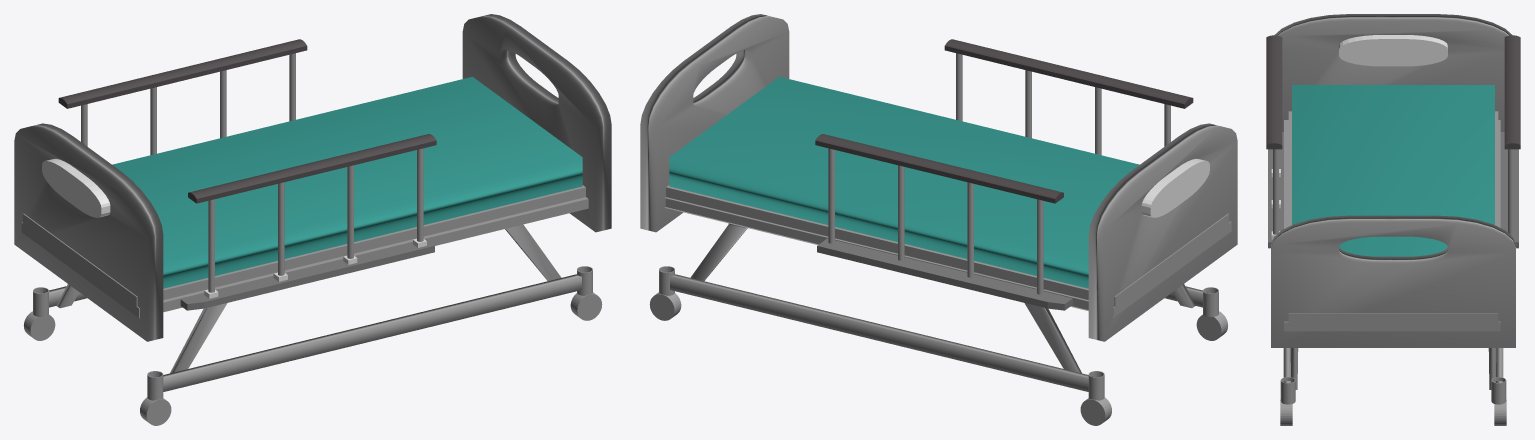
Rendered from Hospital Bed Finalized2.fbx.
The picture shows the model from 3 angles, left to right: view 1: azimuth 30°, elevation 25°; view 2: azimuth 150°, elevation 25°; view 3: azimuth 270°, elevation 25°; orthographic projection. The views are drawn at different scales.
Parts seen in each view (by area): view 1: Cube, Cube.002, Cube.001, Cube.006, Plane, Cylinder, Cube.004, Plane.001, Cube.003, Circle, Cylinder.001; view 2: Cube, Cube.002, Cube.001, Cube.006, Plane, Cylinder, Cube.004, Plane.001, Cube.003, Circle, Cylinder.001; view 3: Cube.002, Cube, Cube.001, Plane, Cube.003, Cube.004, Cylinder, Cylinder.001, Circle, Plane.001, Cube.006.
Boxes of the visible parts, x1,y1,x2,y2 form: Cube: (112, 76, 582, 288); Cube.002: (14, 14, 611, 341); Cube.001: (21, 185, 588, 318); Cube.006: (43, 274, 581, 391); Plane: (58, 39, 436, 203); Cylinder: (81, 53, 423, 292); Cube.004: (180, 239, 434, 310); Plane.001: (56, 224, 561, 373); Cube.003: (42, 158, 110, 217); Circle: (23, 292, 602, 425); Cylinder.001: (33, 266, 592, 400); Cube: (669, 76, 1139, 288); Cube.002: (640, 14, 1237, 341); Cube.001: (665, 185, 1231, 317); Cube.006: (670, 274, 1208, 391); Plane: (815, 39, 1193, 203); Cylinder: (828, 53, 1170, 294); Cube.004: (817, 238, 1072, 310); Plane.001: (690, 223, 1195, 373); Cube.003: (1141, 158, 1209, 217); Circle: (649, 292, 1228, 425); Cylinder.001: (659, 266, 1218, 400); Cube.002: (1271, 14, 1515, 347); Cube: (1292, 85, 1494, 256); Cube.001: (1284, 111, 1500, 331); Plane: (1266, 35, 1520, 149); Cube.003: (1339, 35, 1447, 66); Cube.004: (1268, 132, 1518, 248); Cylinder: (1273, 149, 1513, 236); Cylinder.001: (1280, 377, 1506, 404); Circle: (1280, 400, 1506, 425); Plane.001: (1290, 348, 1496, 389); Cube.006: (1283, 348, 1503, 382).
Bounding box in the file's own units: 199 × 91.07 × 100.
